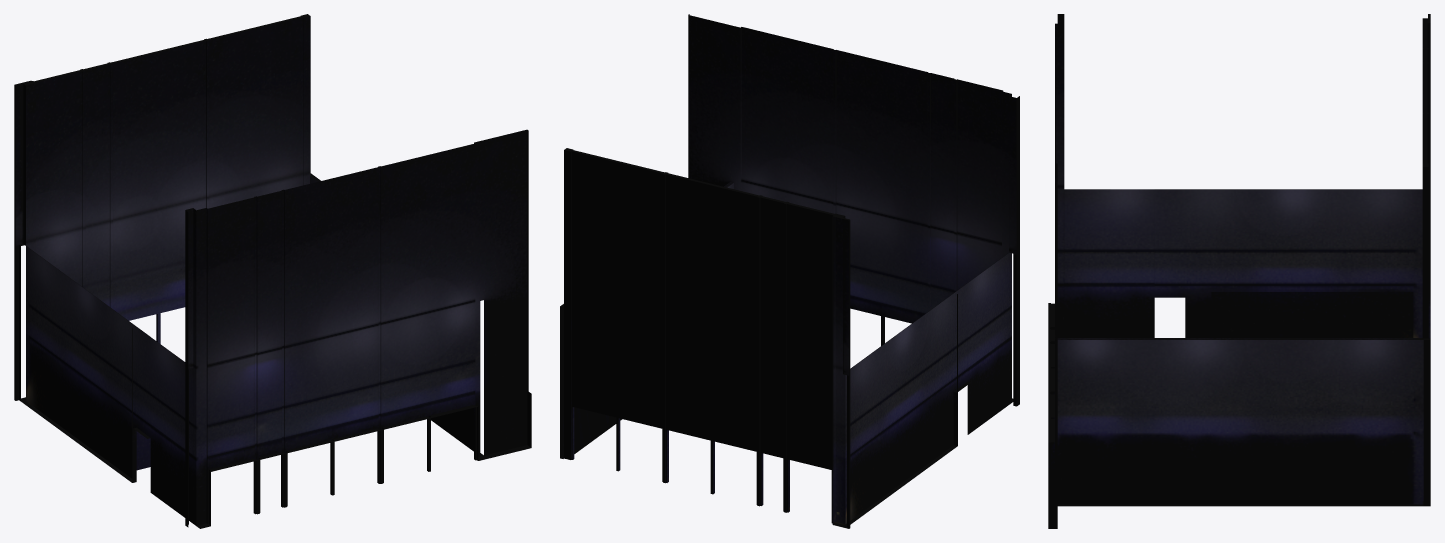
The model's file is ey_verse_inner_walls.glb.
The picture shows the model from 3 angles, left to right: view 1: azimuth 30°, elevation 25°; view 2: azimuth 150°, elevation 25°; view 3: azimuth 270°, elevation 25°; orthographic projection. The views are drawn at different scales.
Parts seen in each view (by area): view 1: ey_verse_inner_walls; view 2: ey_verse_inner_walls; view 3: ey_verse_inner_walls.
Boxes of the visible parts, bbox=[...] form: ey_verse_inner_walls: bbox=[14, 14, 531, 528]; ey_verse_inner_walls: bbox=[560, 14, 1019, 528]; ey_verse_inner_walls: bbox=[1048, 14, 1430, 528].
Bounding box in the file's own units: 13.84 × 12.31 × 12.62.
1 material, 1 textured.
